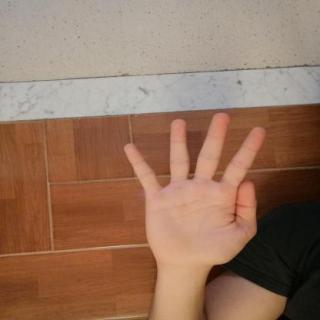SHEEN: (115, 108, 272, 274)
